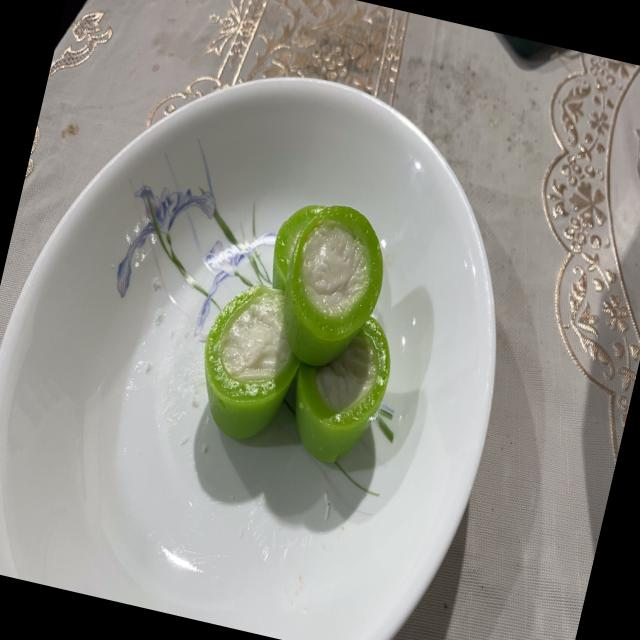nona-manis: (283, 205, 383, 367), (204, 285, 299, 439), (295, 318, 390, 463), (271, 204, 324, 291)
